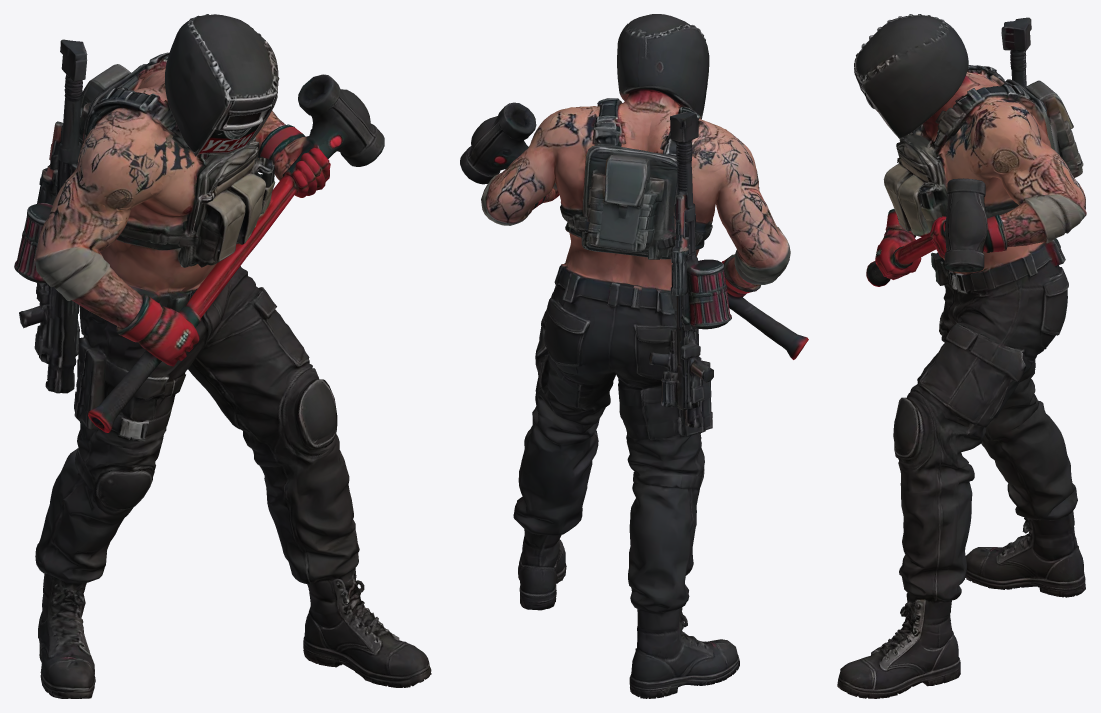
The model's file is tagilla.glb.
3 views of the same model, side by side, from view 1: azimuth 30°, elevation 25°; view 2: azimuth 150°, elevation 25°; view 3: azimuth 270°, elevation 25° (orthographic). The views are drawn at different scales.
Parts seen in each view (by area): view 1: tripo_node_9aae233a-1071-4767-b8c7-711dc6b6f48b; view 2: tripo_node_9aae233a-1071-4767-b8c7-711dc6b6f48b; view 3: tripo_node_9aae233a-1071-4767-b8c7-711dc6b6f48b.
Boxes of the visible parts, bbox=[...] form: tripo_node_9aae233a-1071-4767-b8c7-711dc6b6f48b: bbox=[14, 14, 431, 698]; tripo_node_9aae233a-1071-4767-b8c7-711dc6b6f48b: bbox=[460, 14, 808, 698]; tripo_node_9aae233a-1071-4767-b8c7-711dc6b6f48b: bbox=[837, 14, 1086, 698].
Bounding box in the file's own units: 0.5336 × 0.9799 × 0.3657.
Materials: 1 (1 with a texture image).
